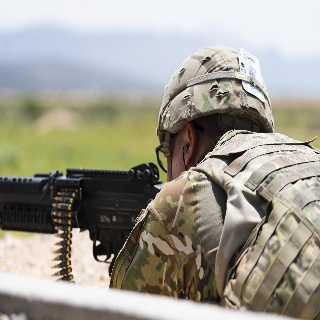rifle: (1, 160, 168, 266)
